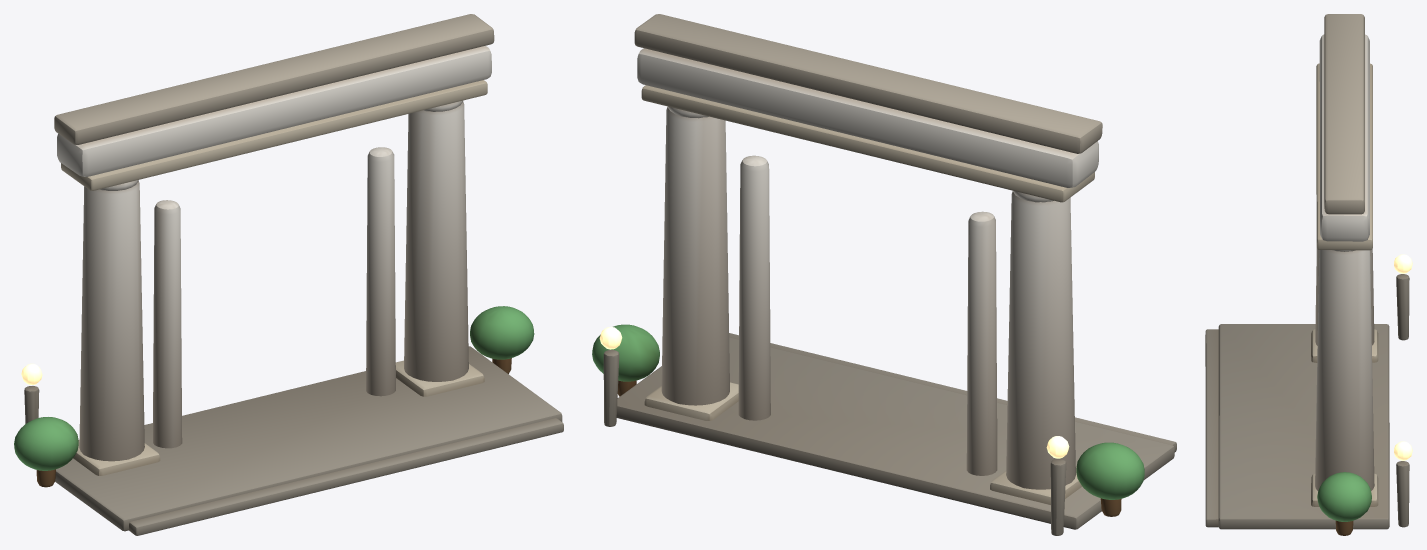
3 renders of one model, left to right at view 1: azimuth 30°, elevation 25°; view 2: azimuth 150°, elevation 25°; view 3: azimuth 270°, elevation 25°, orthographic. The views are drawn at different scales.
Visible parts, largest first — view 1: gate_7839dacc; view 2: gate_7839dacc; view 3: gate_7839dacc.
Part boxes in pixels (left/top/right/bottom): gate_7839dacc: left=14, top=14, right=563, bottom=535; gate_7839dacc: left=592, top=14, right=1176, bottom=535; gate_7839dacc: left=1205, top=14, right=1412, bottom=535.
Bounding box in the file's own units: 6.64 × 4.44 × 2.55.
